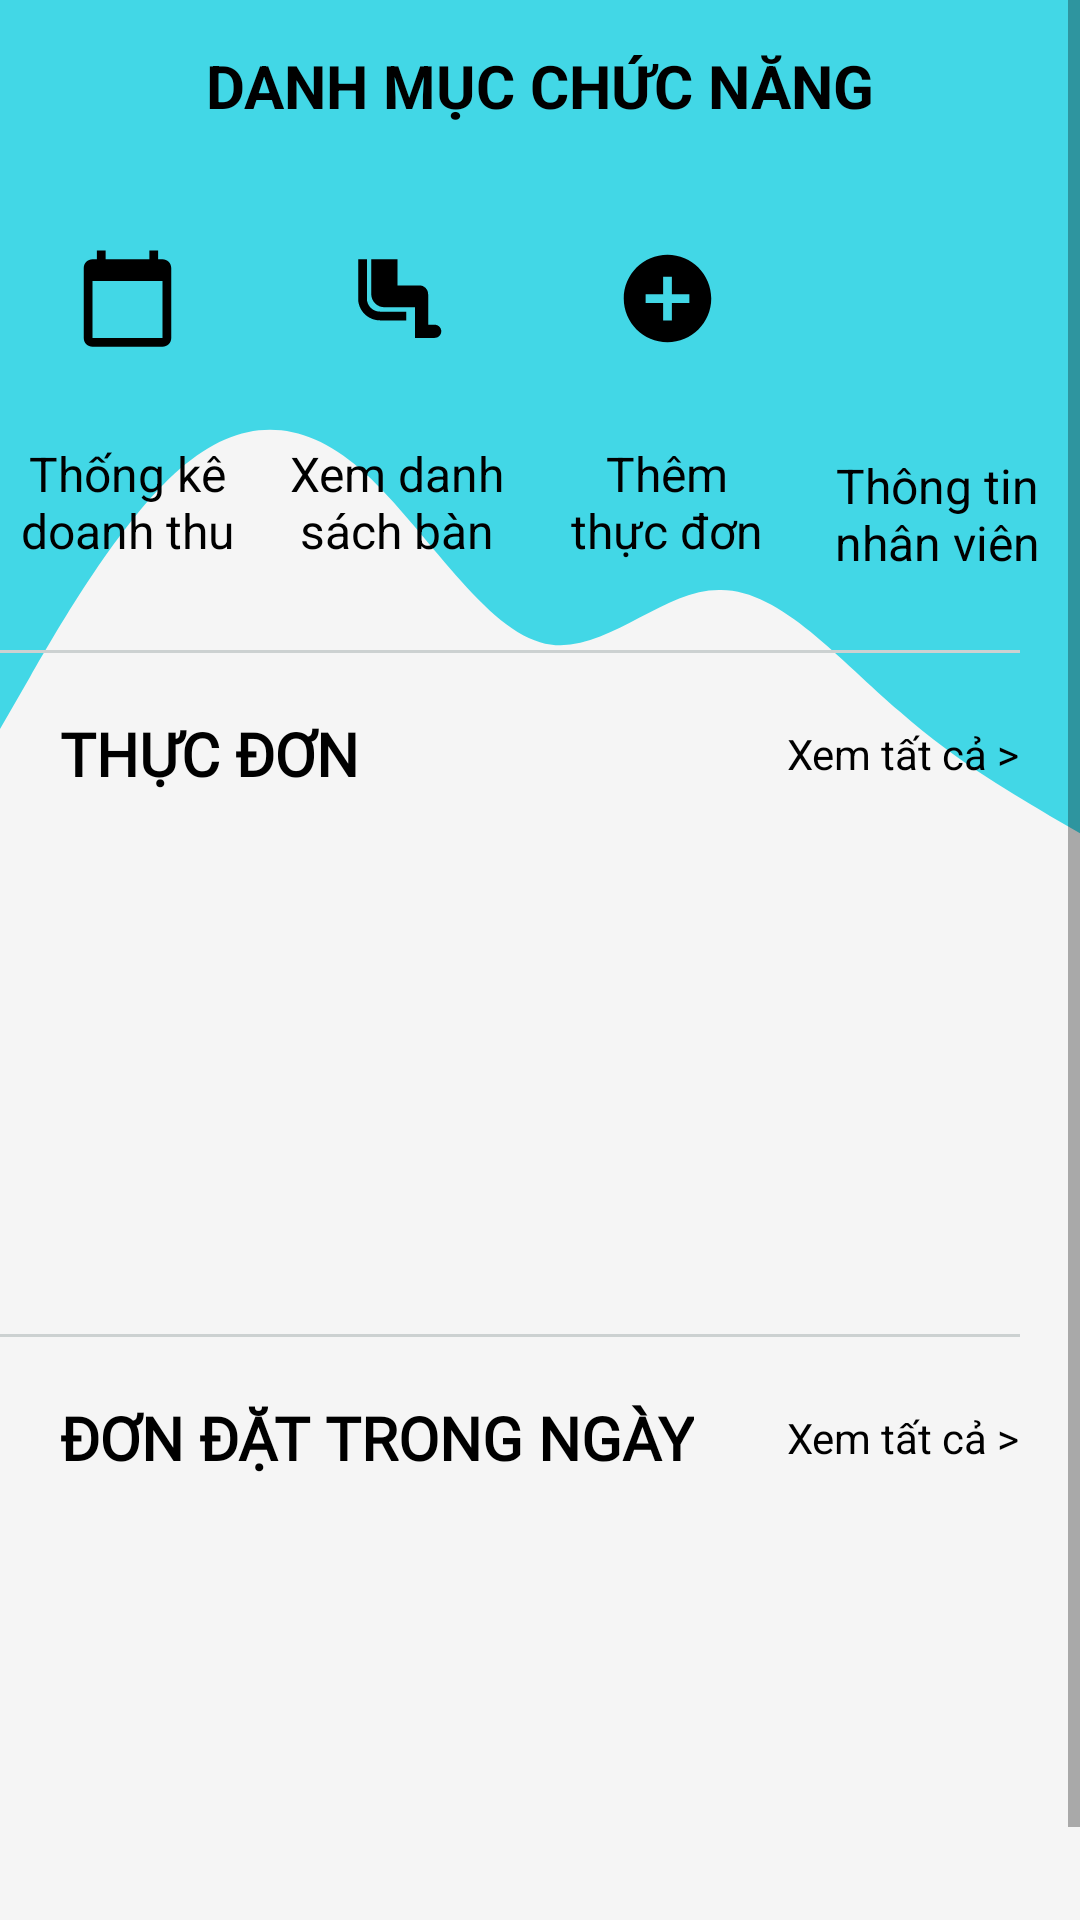

Screen size 1080px x 1920px. Icon name, then its box in pixels as Rect(x1, y1, x2, y2):
add circle: Rect(623, 254, 712, 343)
airline seat legroom: Rect(358, 259, 442, 338)
calendar today: Rect(83, 250, 172, 347)
